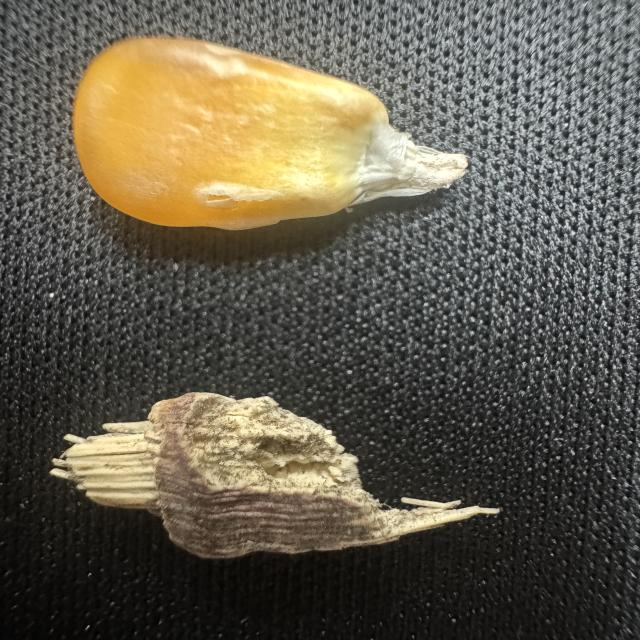Bad-Seed: (36, 376, 516, 559)
Good-Seed: (60, 32, 482, 254)
